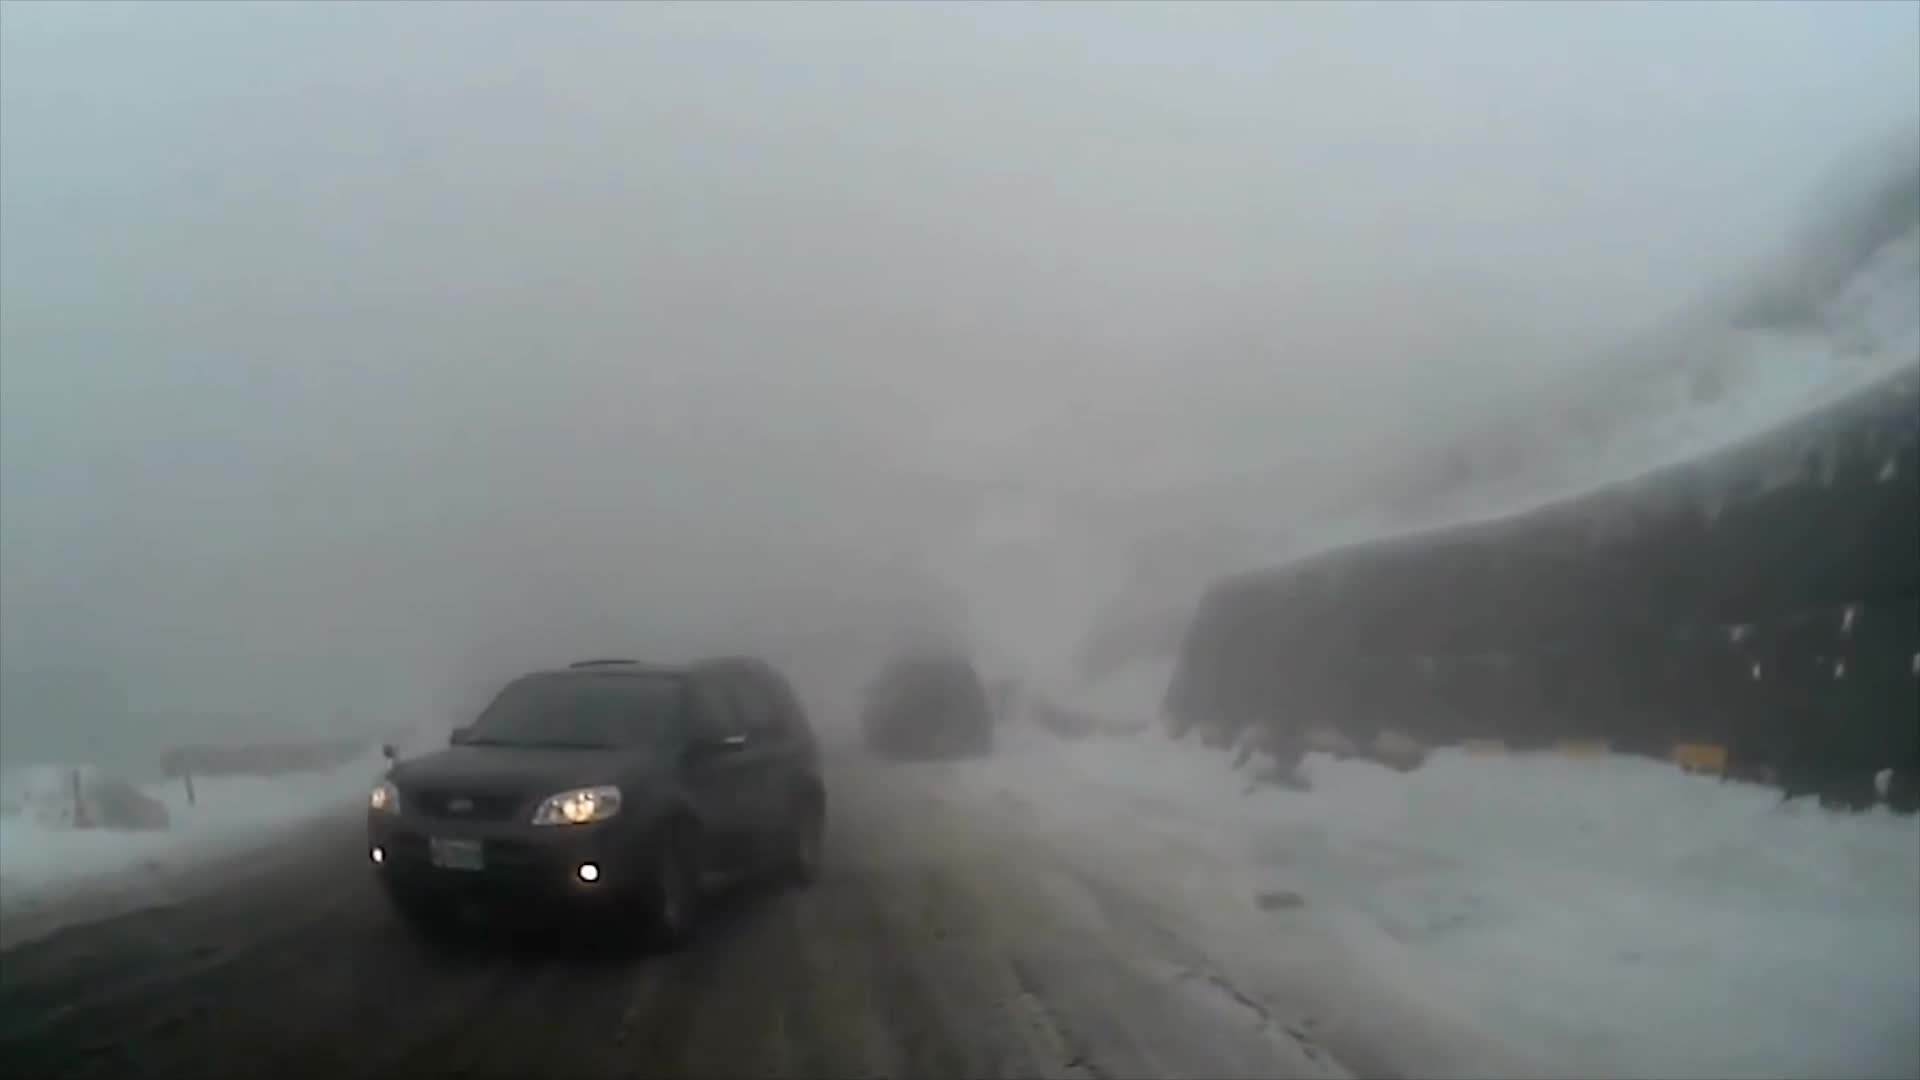vehicle: (364, 651, 829, 949), (860, 647, 993, 761)
